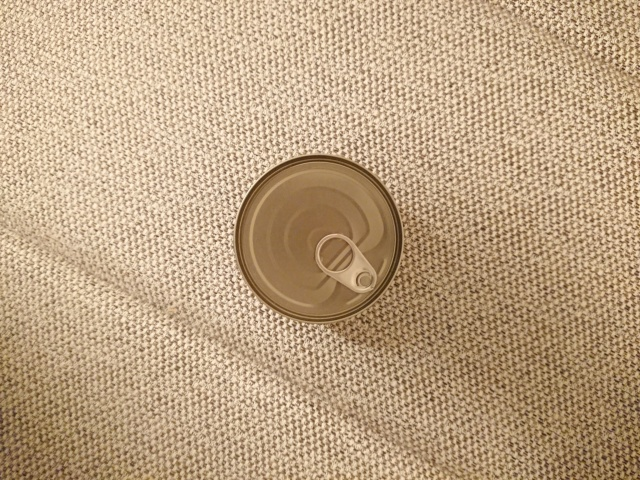Giana Tuna Salad Mexico 185g: (229, 151, 409, 328)
